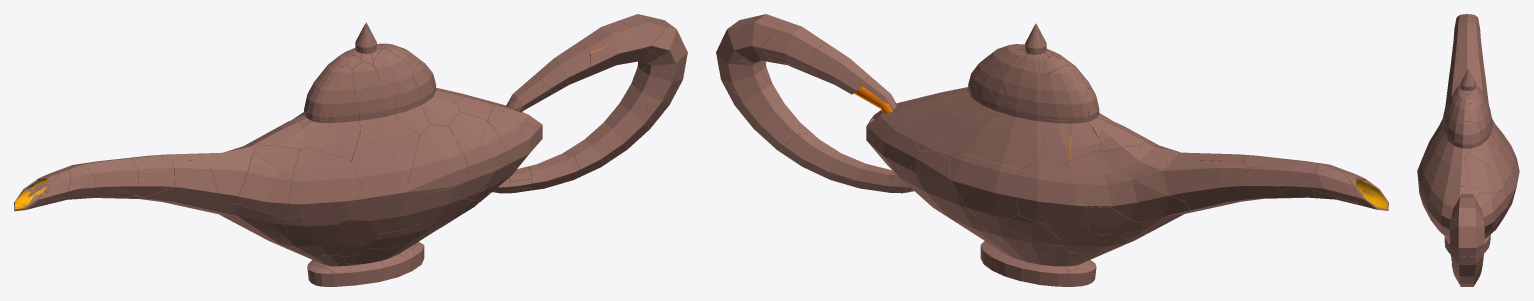
File: CandleDirt.fbx
3 views of the same model, side by side, from view 1: azimuth 30°, elevation 25°; view 2: azimuth 150°, elevation 25°; view 3: azimuth 270°, elevation 25° (orthographic). The views are drawn at different scales.
Parts seen in each view (by area): view 1: Candle.002_cell.098, Candle.002_cell.154, Candle.002_cell.156, Candle.002_cell.085, Candle.002_cell.128, Candle.002_cell.091, Candle.002_cell.077, Candle.002_cell.076, Candle.002_cell.170, Candle.002_cell.030, Candle.002_cell.060, Candle.002_cell.157 (+40 smaller); view 2: Candle.002_cell.027, Candle.002_cell.086, Candle.002_cell.083, Candle.002_cell.063, Candle.002_cell.097, Candle.002_cell.111, Candle.002_cell.047, Candle.002_cell.132, Candle.002_cell.170, Candle.002_cell.175, Candle.002_cell.050, Candle.002_cell.031 (+38 smaller); view 3: Candle.002_cell.132, Candle.002_cell.097, Candle.002_cell.031, Candle.002_cell.055, Candle.002_cell.133, Candle.002_cell.060, Candle.002_cell.116, Candle.002_cell.156, Candle.002_cell.021, Candle.002_cell.015, Candle.002_cell.134, Candle.002_cell.173 (+37 smaller).
Part boxes in pixels (x1,y1,x2,y2): Candle.002_cell.098: [284, 147, 362, 219]; Candle.002_cell.154: [351, 121, 419, 191]; Candle.002_cell.156: [407, 125, 468, 193]; Candle.002_cell.085: [235, 153, 290, 218]; Candle.002_cell.128: [332, 189, 378, 256]; Candle.002_cell.091: [284, 207, 341, 255]; Candle.002_cell.077: [374, 184, 425, 233]; Candle.002_cell.076: [199, 148, 252, 207]; Candle.002_cell.170: [532, 42, 589, 93]; Candle.002_cell.030: [326, 98, 360, 161]; Candle.002_cell.060: [78, 158, 138, 194]; Candle.002_cell.157: [418, 185, 461, 236]; Candle.002_cell.027: [949, 153, 1021, 222]; Candle.002_cell.086: [1016, 160, 1072, 223]; Candle.002_cell.083: [959, 119, 1039, 169]; Candle.002_cell.063: [1064, 150, 1121, 207]; Candle.002_cell.097: [937, 84, 983, 157]; Candle.002_cell.111: [1112, 182, 1192, 222]; Candle.002_cell.047: [911, 151, 962, 207]; Candle.002_cell.132: [903, 89, 960, 150]; Candle.002_cell.170: [812, 42, 868, 94]; Candle.002_cell.175: [1137, 142, 1184, 201]; Candle.002_cell.050: [784, 133, 836, 180]; Candle.002_cell.031: [872, 123, 920, 174]; Candle.002_cell.132: [1464, 155, 1505, 193]; Candle.002_cell.097: [1467, 134, 1509, 181]; Candle.002_cell.031: [1484, 191, 1506, 233]; Candle.002_cell.055: [1445, 157, 1469, 186]; Candle.002_cell.133: [1438, 135, 1467, 164]; Candle.002_cell.060: [1452, 23, 1481, 54]; Candle.002_cell.116: [1467, 219, 1484, 256]; Candle.002_cell.156: [1418, 150, 1438, 197]; Candle.002_cell.021: [1432, 183, 1459, 212]; Candle.002_cell.015: [1451, 262, 1481, 283]; Candle.002_cell.134: [1454, 103, 1482, 122]; Candle.002_cell.173: [1450, 237, 1473, 256].
Size of the model in its own units: 622 by 220 by 118.
